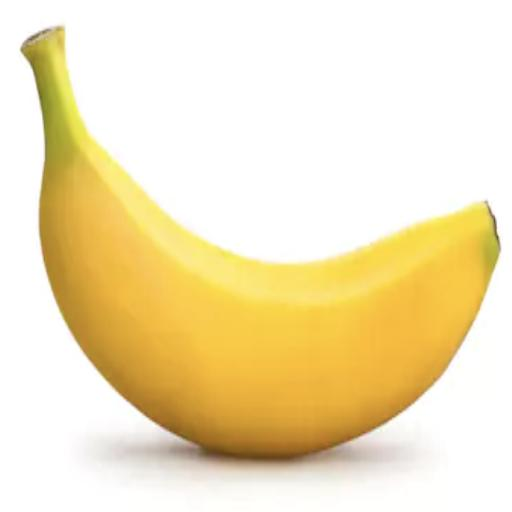banana: (22, 28, 499, 457)
